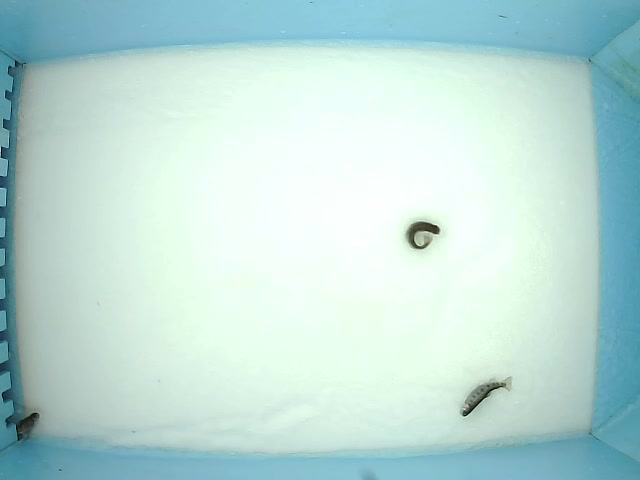fish: (458, 374, 514, 418), (403, 220, 441, 250)
